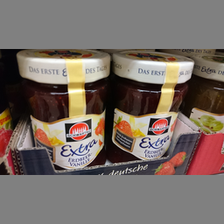jam: (16, 50, 111, 170), (109, 51, 196, 163)
